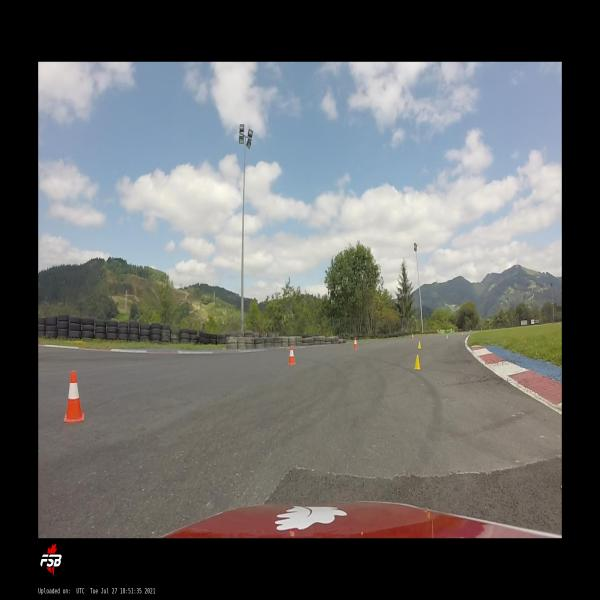orange_cone: (63, 370, 85, 424), (288, 345, 296, 365), (353, 338, 358, 348), (411, 333, 414, 339)
unknown_cone: (413, 354, 421, 370), (416, 340, 422, 349), (446, 334, 448, 339)
